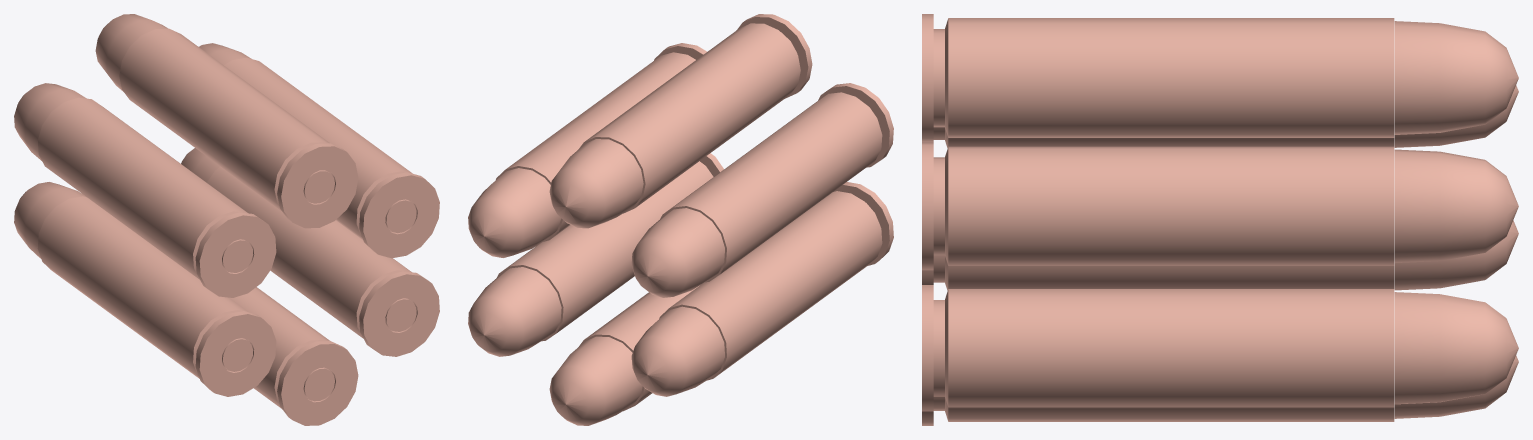
The model's file is bullet.fbx.
The picture shows the model from 3 angles, left to right: view 1: azimuth 30°, elevation 25°; view 2: azimuth 150°, elevation 25°; view 3: azimuth 270°, elevation 25°; orthographic projection. The views are drawn at different scales.
Parts seen in each view (by area): view 1: 1, 6, 5, 3, 2, 4; view 2: 1, 6, 5, 3, 2, 4; view 3: 1, 2, 3, 5, 4, 6.
Boxes of the visible parts, left/top/right/bottom form: 1: left=95, top=14, right=358, bottom=228; 6: left=14, top=83, right=276, bottom=297; 5: left=14, top=182, right=276, bottom=396; 3: left=181, top=148, right=439, bottom=356; 2: left=199, top=43, right=439, bottom=258; 4: left=230, top=287, right=358, bottom=425; 1: left=549, top=14, right=812, bottom=228; 6: left=631, top=83, right=893, bottom=297; 5: left=631, top=182, right=893, bottom=396; 3: left=468, top=153, right=723, bottom=356; 2: left=468, top=43, right=706, bottom=257; 4: left=549, top=285, right=699, bottom=425; 1: left=922, top=14, right=1518, bottom=142; 2: left=922, top=142, right=1518, bottom=270; 3: left=922, top=285, right=1518, bottom=411; 5: left=922, top=220, right=1518, bottom=290; 4: left=922, top=355, right=1518, bottom=425; 6: left=933, top=85, right=1518, bottom=148.
Size of the model in its own units: 0.0504 by 0.0558 by 0.0754.
